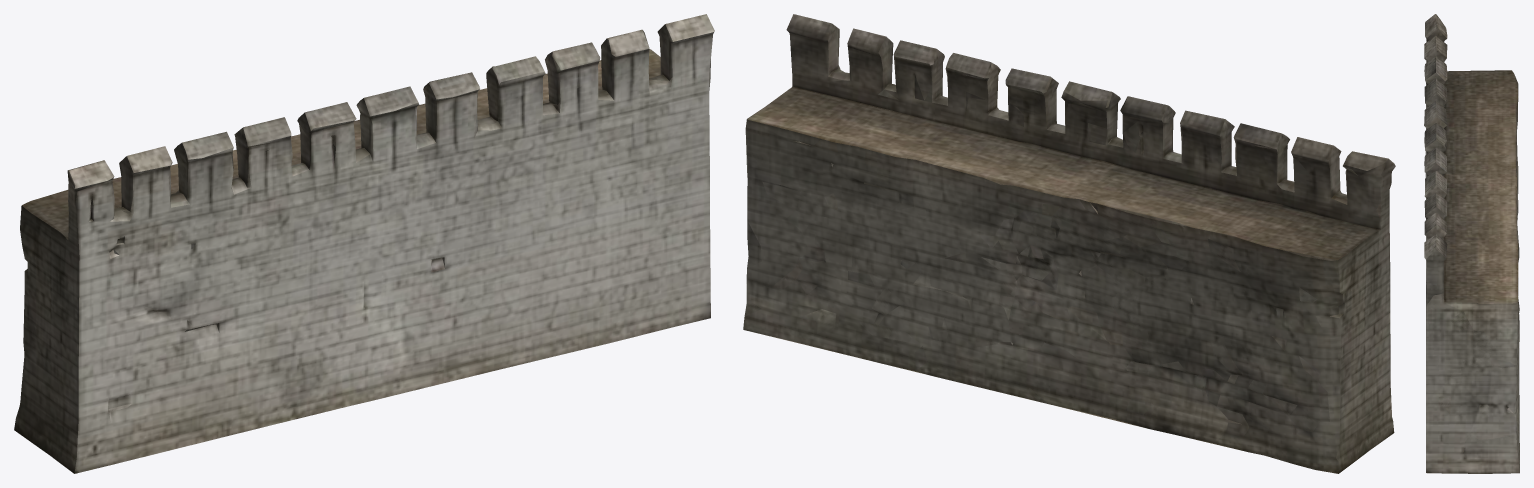
The model's file is wall.glb.
The picture shows the model from 3 angles, left to right: view 1: azimuth 30°, elevation 25°; view 2: azimuth 150°, elevation 25°; view 3: azimuth 270°, elevation 25°; orthographic projection. The views are drawn at different scales.
Visible parts, largest first — view 1: geometry_0; view 2: geometry_0; view 3: geometry_0.
Part boxes in pixels (left/top/right/bottom): geometry_0: left=14, top=14, right=714, bottom=473; geometry_0: left=743, top=14, right=1395, bottom=473; geometry_0: left=1424, top=14, right=1519, bottom=473.
Bounding box in the file's own units: 1.8 × 0.8065 × 0.3092.
1 material, 1 textured.
